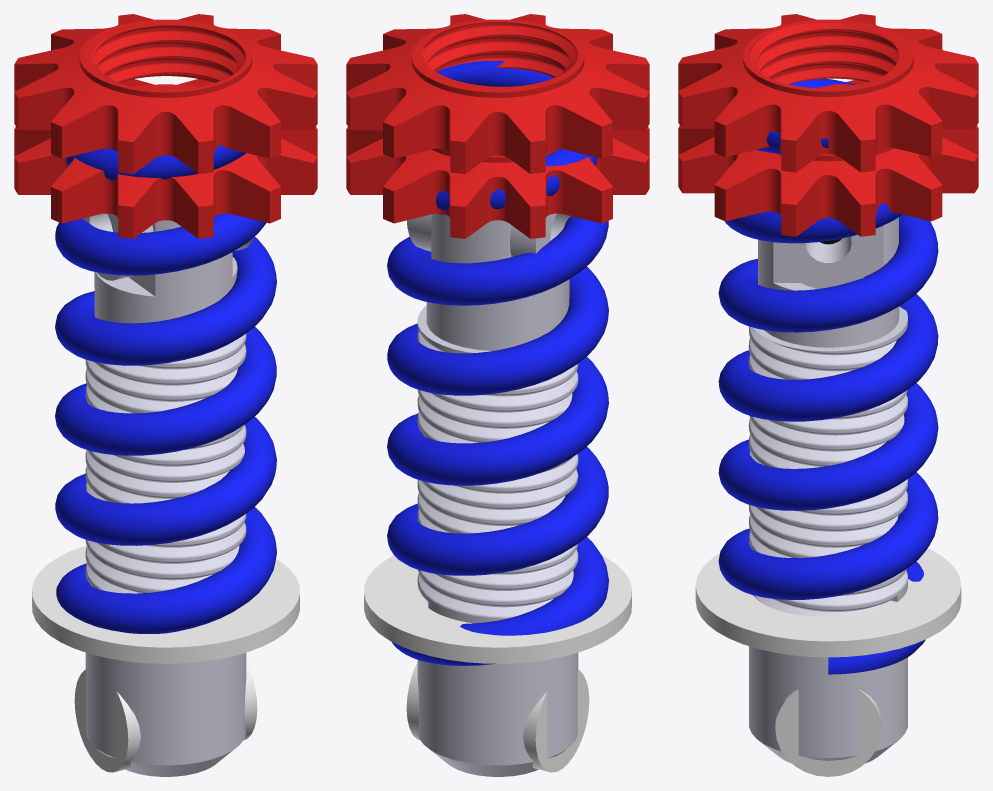
The model's file is Suspension_assembled.glb.
The picture shows the model from 3 angles, left to right: view 1: azimuth 30°, elevation 25°; view 2: azimuth 150°, elevation 25°; view 3: azimuth 270°, elevation 25°; orthographic projection.
Parts seen in each view (by area): view 1: Coil Spring, Damper Rod, Lock Nut, Retainer Ring, Base Mount; view 2: Coil Spring, Damper Rod, Lock Nut, Retainer Ring, Base Mount; view 3: Coil Spring, Damper Rod, Lock Nut, Retainer Ring, Base Mount.
Boxes of the visible parts, x1,y1,x2,y2 form: Coil Spring: (55,145,276,633); Damper Rod: (82,213,253,776); Lock Nut: (14,14,317,173); Retainer Ring: (14,79,317,238); Base Mount: (32,545,299,772); Coil Spring: (387,61,608,665); Damper Rod: (407,213,578,776); Lock Nut: (346,14,649,173); Retainer Ring: (346,127,649,238); Base Mount: (364,555,631,772); Coil Spring: (718,78,938,674); Damper Rod: (748,217,908,763); Lock Nut: (678,14,978,172); Retainer Ring: (678,80,978,236); Base Mount: (695,238,961,776).
Bounding box in the file's own units: 0.0508 × 0.13 × 0.0508.
